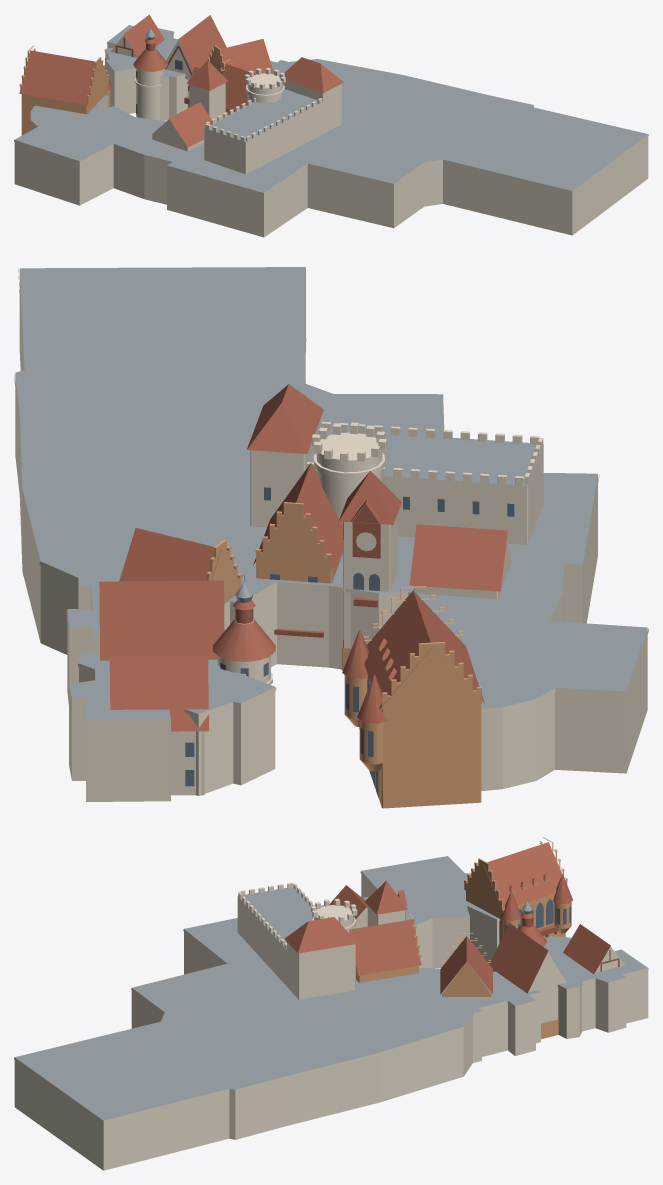
The picture shows the model from 3 angles, top to bottom: view 1: azimuth 30°, elevation 25°; view 2: azimuth 150°, elevation 25°; view 3: azimuth 270°, elevation 25°; orthographic projection. The views are drawn at different scales.
Visible parts, largest first — view 1: germany-pavilion-walt-disney-world; view 2: germany-pavilion-walt-disney-world; view 3: germany-pavilion-walt-disney-world.
Part boxes in pixels (box(x1,y1,x2,y2)): germany-pavilion-walt-disney-world: box(14, 14, 648, 237); germany-pavilion-walt-disney-world: box(14, 267, 648, 808); germany-pavilion-walt-disney-world: box(14, 837, 648, 1170).
Bounding box in the file's own units: 102 × 21.5 × 104.
